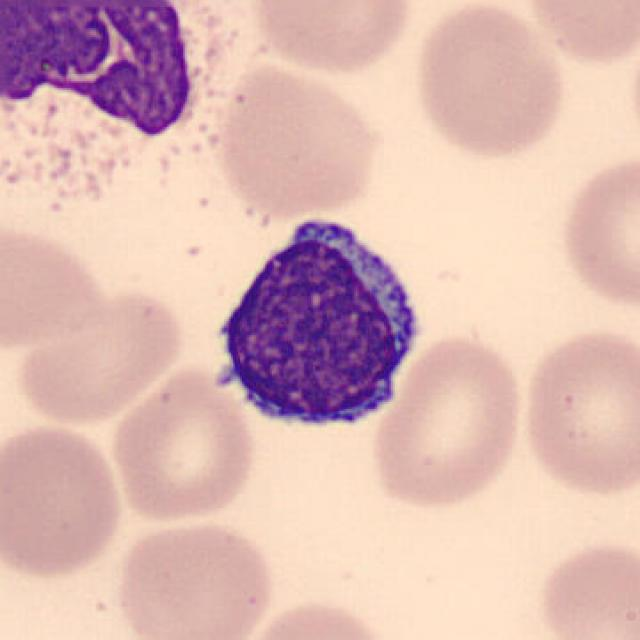Lymphocyte: (197, 205, 432, 444), (1, 0, 213, 169)
RBC: (364, 332, 530, 513), (204, 58, 386, 220), (407, 0, 571, 162), (12, 282, 188, 429), (105, 362, 259, 527), (516, 321, 638, 502), (0, 418, 128, 582), (111, 516, 277, 640), (0, 220, 110, 352), (555, 148, 638, 316), (245, 0, 418, 78), (531, 534, 640, 640), (514, 0, 640, 72), (235, 594, 396, 640)
